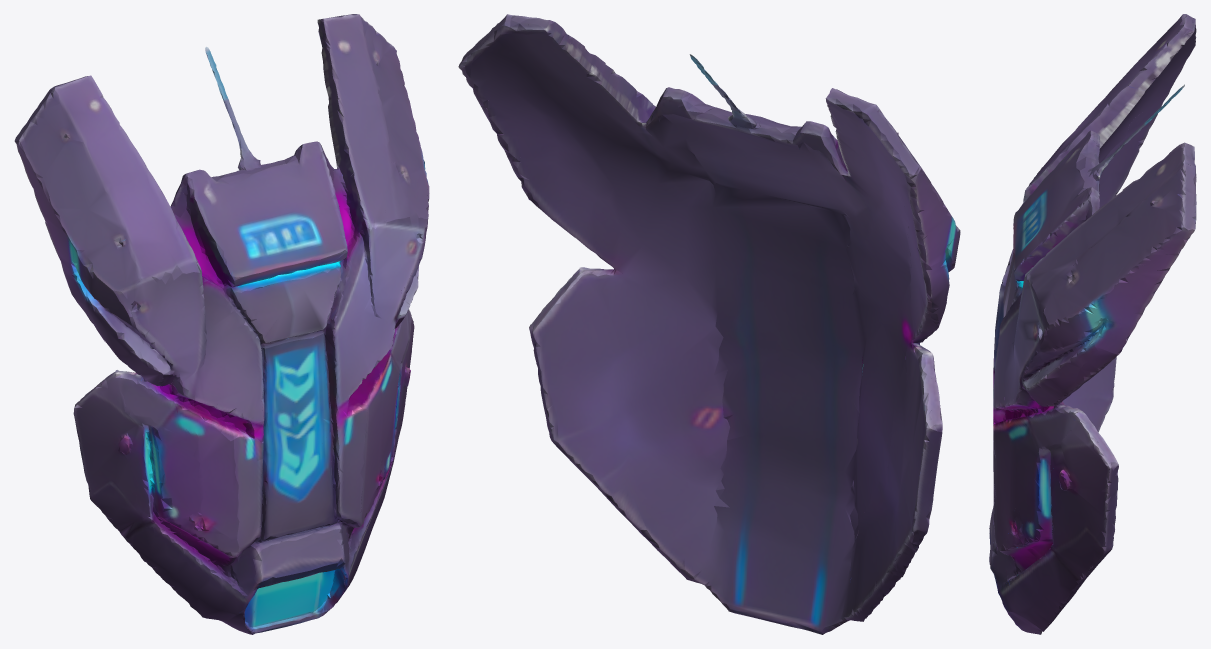
Rendered from drifttuner_armor.glb.
The picture shows the model from 3 angles, left to right: view 1: azimuth 30°, elevation 25°; view 2: azimuth 150°, elevation 25°; view 3: azimuth 270°, elevation 25°; orthographic projection. The views are drawn at different scales.
Parts seen in each view (by area): view 1: Armor_Drift_Tuner; view 2: Armor_Drift_Tuner; view 3: Armor_Drift_Tuner.
Boxes of the visible parts, x1,y1,x2,y2 form: Armor_Drift_Tuner: [14, 14, 429, 634]; Armor_Drift_Tuner: [458, 14, 960, 634]; Armor_Drift_Tuner: [989, 14, 1196, 634].
Bounding box in the file's own units: 0.909 × 1.2 × 0.4246.
1 material, 1 textured.
